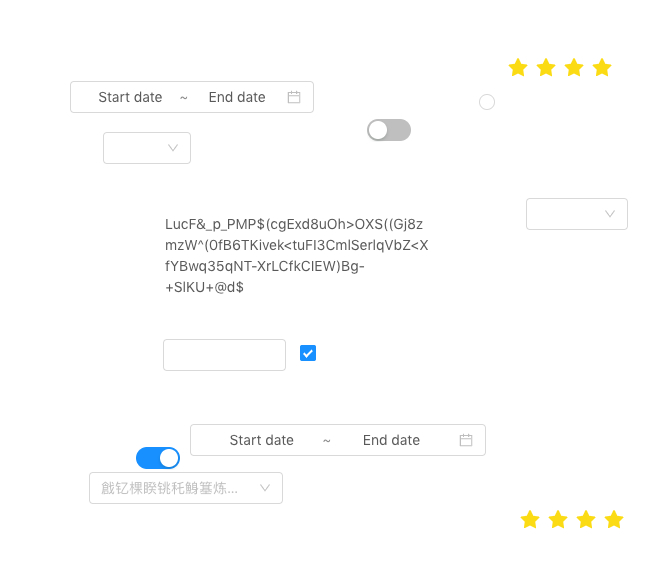Checkbox: (300, 342, 316, 363)
Input: (163, 339, 286, 371)
Radio: (479, 91, 495, 111)
RangePicker: (190, 424, 486, 456), (70, 81, 314, 113)
Rate: (508, 51, 628, 83), (520, 503, 640, 535)
Select: (89, 472, 283, 504), (526, 198, 628, 230), (103, 132, 191, 164)
Switch: (136, 446, 180, 470), (367, 118, 411, 142)
Text: (165, 213, 433, 334)
